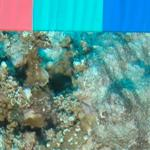alive: (3, 33, 147, 148)
